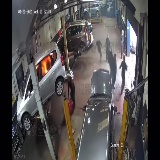fire: (36, 53, 55, 78)
